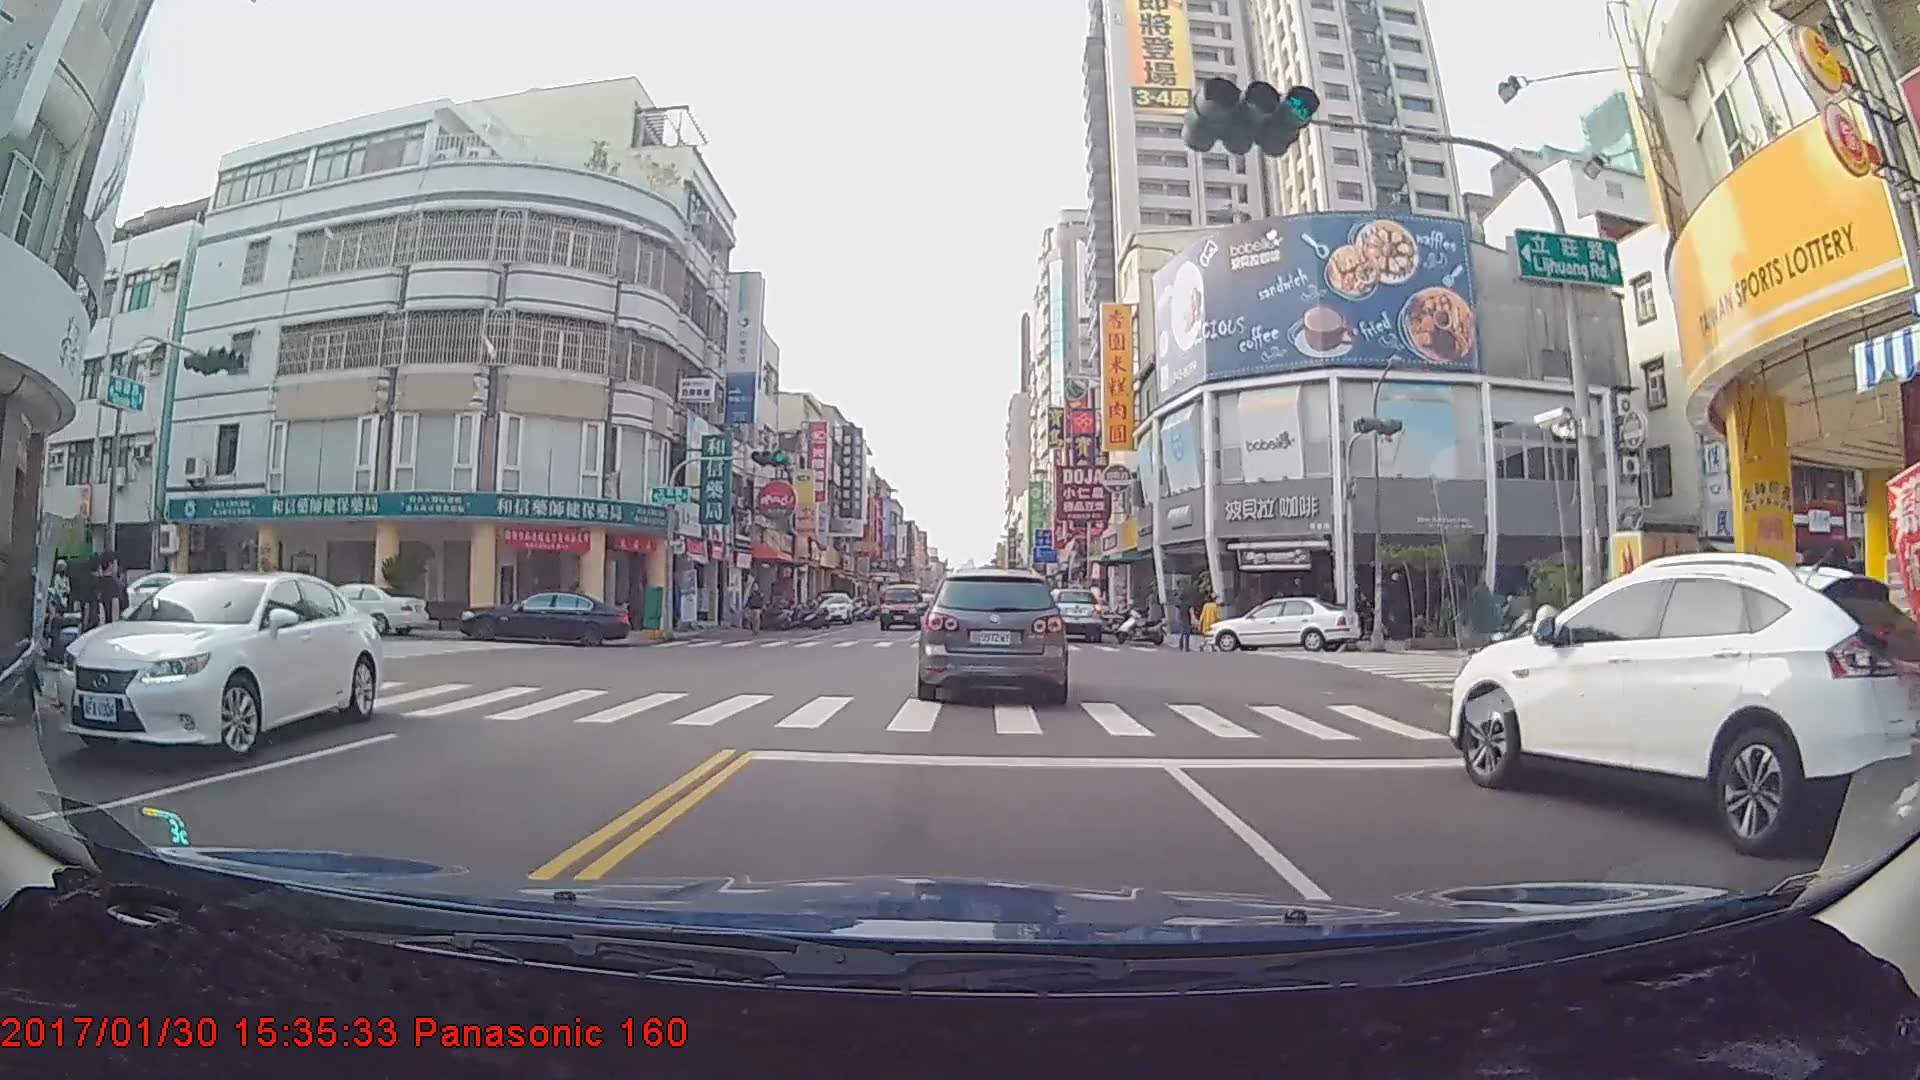pedestrian: (97, 551, 133, 708), (1175, 591, 1195, 656), (1201, 593, 1223, 649), (746, 583, 766, 637)
vehicle: (1448, 550, 1911, 856), (45, 569, 376, 763), (913, 566, 1069, 705), (456, 584, 630, 641), (1206, 593, 1358, 653), (284, 579, 430, 637), (1036, 584, 1102, 641), (878, 581, 924, 630), (809, 590, 853, 626)
